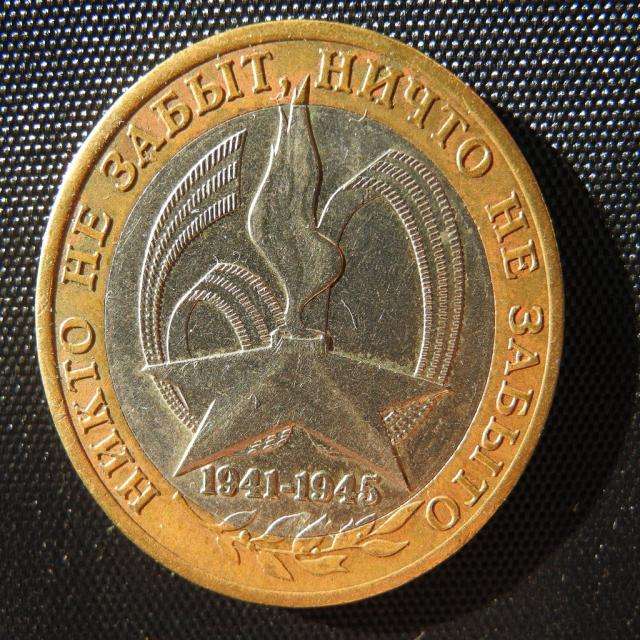Coin: (33, 13, 568, 612)
